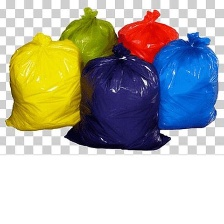plastic_bag: (63, 39, 174, 153), (1, 31, 86, 137), (137, 30, 221, 133), (109, 7, 186, 67), (57, 4, 122, 66)
